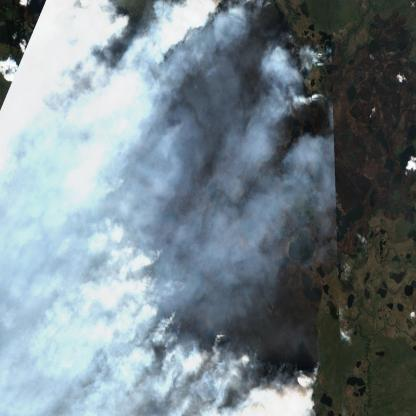fire: (98, 209, 323, 416), (110, 0, 225, 72), (283, 25, 334, 114)
